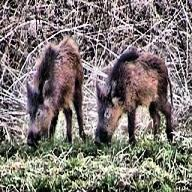boar: (93, 47, 175, 147), (25, 36, 85, 148)
